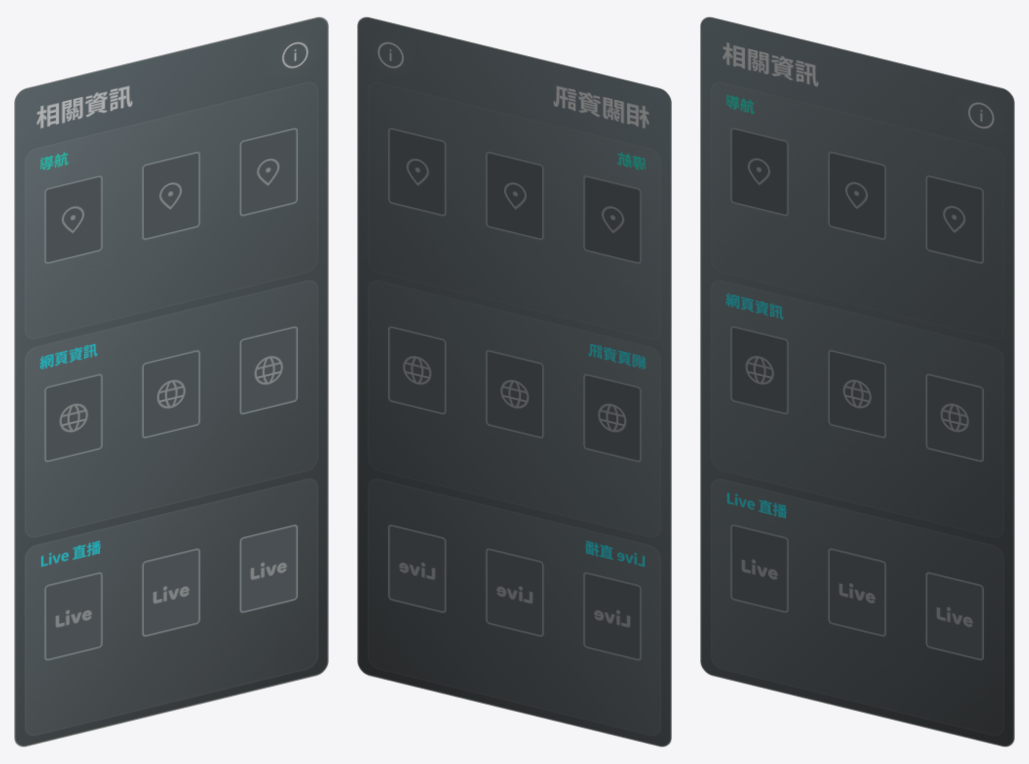
Rendered from recommendationModel.glb.
3 renders of one model, left to right at view 1: azimuth 30°, elevation 25°; view 2: azimuth 150°, elevation 25°; view 3: azimuth 330°, elevation 25°, orthographic.
Parts seen in each view (by area): view 1: background; view 2: background; view 3: background.
Boxes of the visible parts, left/top/right/bottom form: background: left=14, top=17, right=328, bottom=746; background: left=357, top=17, right=671, bottom=746; background: left=700, top=17, right=1014, bottom=746.
Size of the model in its own units: 2 by 4 by 0.01.
19 materials, 19 textured.
